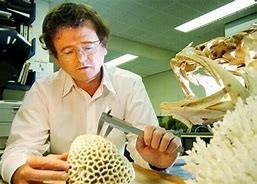bleached_corals: (186, 96, 257, 184), (68, 135, 135, 184)
